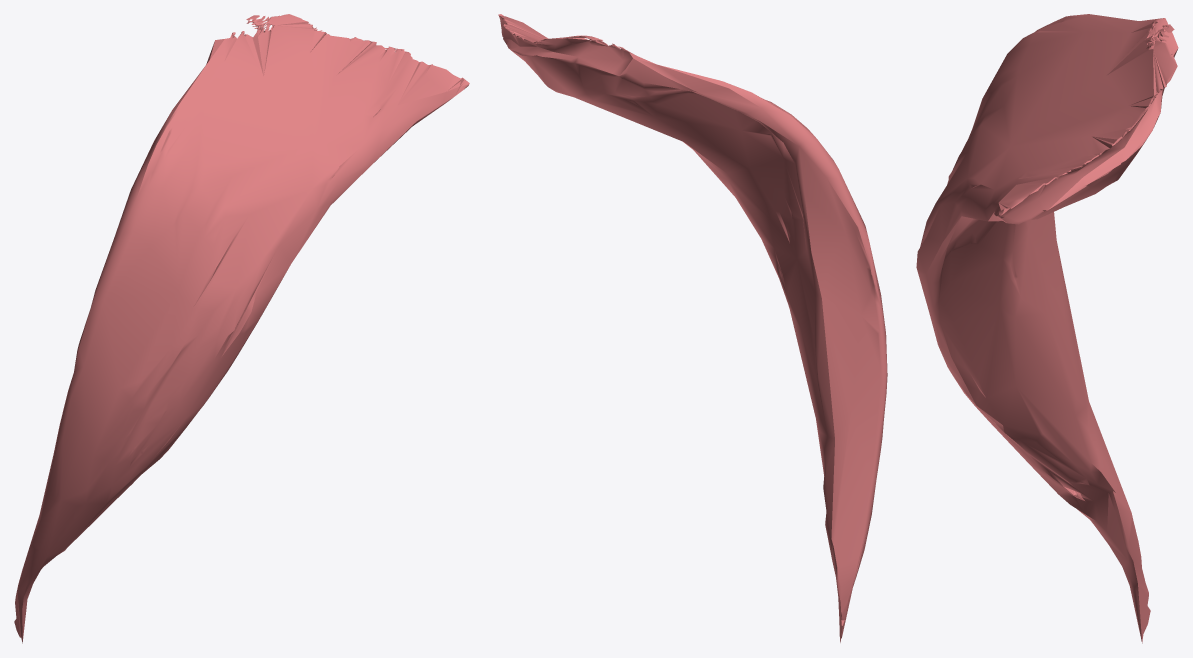
3 renders of one model, left to right at view 1: azimuth 30°, elevation 25°; view 2: azimuth 150°, elevation 25°; view 3: azimuth 270°, elevation 25°, orthographic. The views are drawn at different scales.
Parts seen in each view (by area): view 1: FJ1468; view 2: FJ1468; view 3: FJ1468.
Boxes of the visible parts, box(x1,y1,x2,y2) form: FJ1468: box(14, 14, 469, 643); FJ1468: box(498, 14, 887, 642); FJ1468: box(916, 14, 1178, 643).
Bounding box in the file's own units: 0.1144 × 0.1507 × 0.046.
